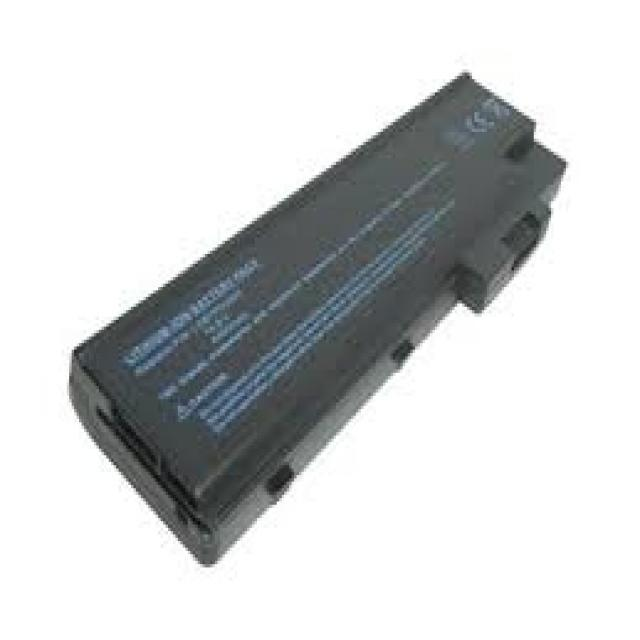battery: (59, 74, 566, 566)
